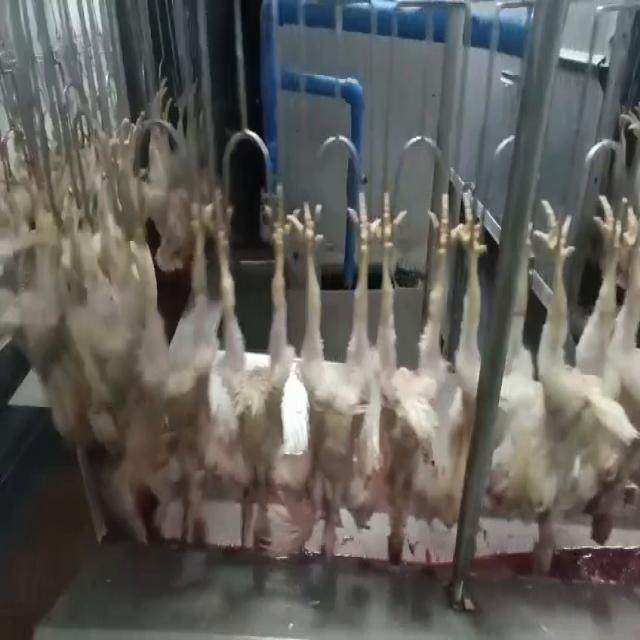chicken: (197, 168, 292, 570), (508, 167, 608, 528), (104, 170, 192, 538), (360, 179, 439, 572), (288, 188, 365, 569), (427, 161, 505, 534), (590, 174, 639, 546)
